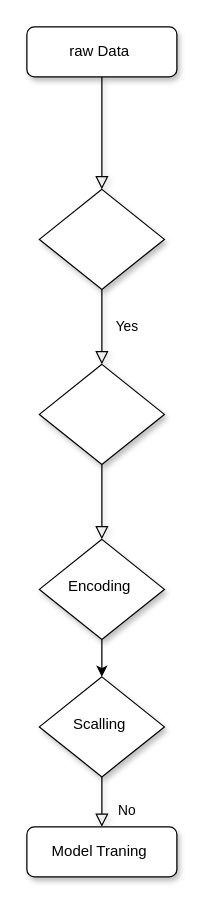
The diagram is 206 pixels wide and 908 high, and some of its shapes have lost their labels. The shapes that lost their labels are listed below. From the top down, each one's centre as x and y in pixels, then its label:
At [102,240]: "Data cleaning".
At [102,415]: "Data Transformation".
